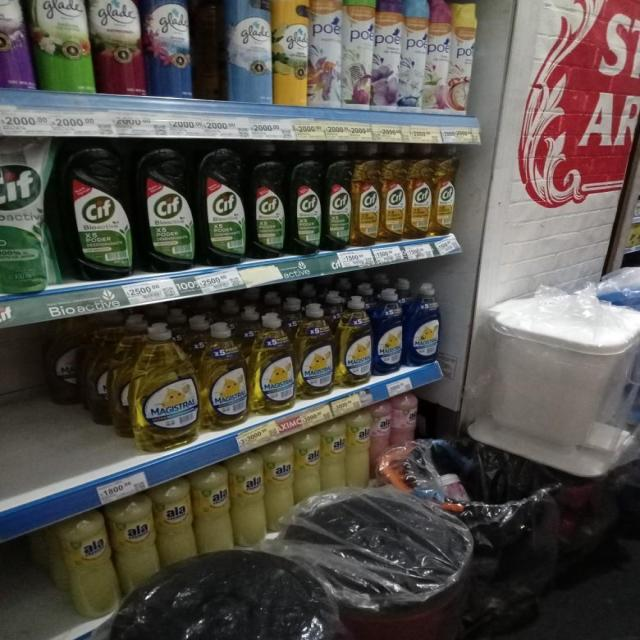ala_crem_amarillo: (52, 511, 111, 619), (111, 494, 155, 592), (155, 480, 193, 566), (231, 451, 265, 547), (194, 465, 230, 553), (265, 439, 293, 533), (346, 409, 371, 488)
cif_conc_bot_amarilla: (354, 143, 381, 247), (381, 144, 407, 243), (407, 146, 432, 240), (433, 148, 457, 236)
cif_conc_botella_verde: (58, 137, 132, 281), (136, 141, 195, 272), (197, 144, 246, 266), (249, 142, 286, 259), (288, 142, 322, 255), (324, 142, 352, 252)
magistral_con_amarillo: (132, 322, 197, 452), (200, 320, 248, 430), (250, 311, 295, 415), (296, 302, 334, 400), (45, 318, 82, 407), (337, 294, 371, 388)
magistral_con_azul: (405, 282, 441, 366), (373, 287, 403, 375)
